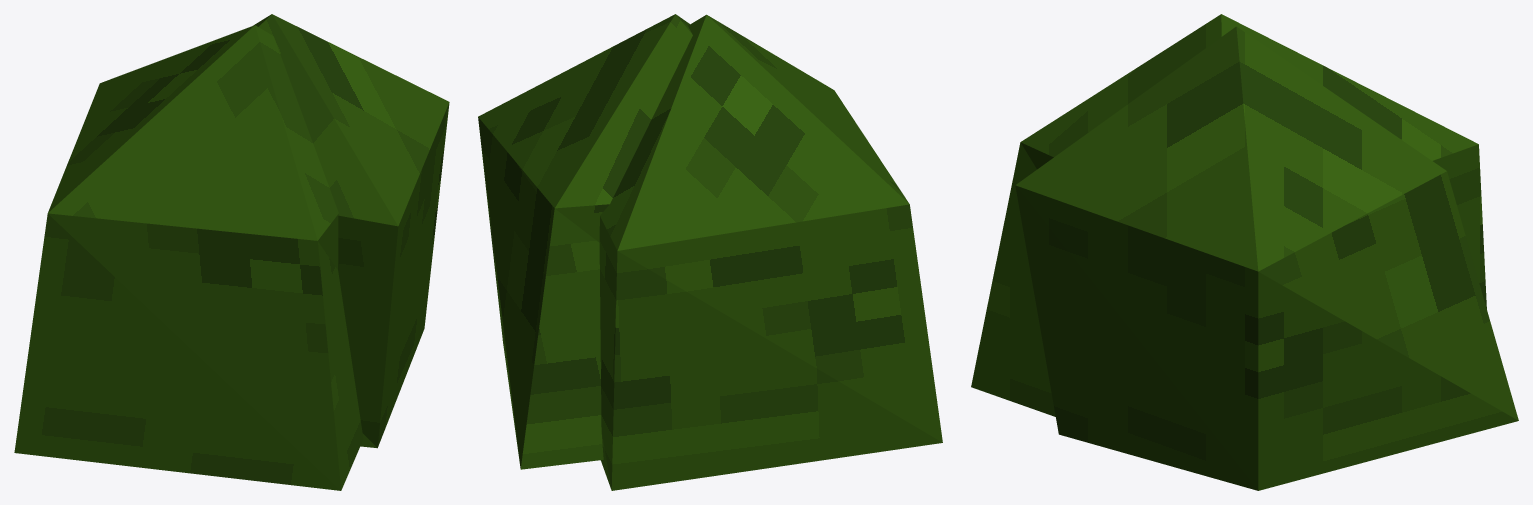
File: arbusto.glb
3 views of the same model, side by side, from view 1: azimuth 30°, elevation 25°; view 2: azimuth 150°, elevation 25°; view 3: azimuth 270°, elevation 25° (orthographic). The views are drawn at different scales.
Visible parts, largest first — view 1: follaje; view 2: follaje; view 3: follaje.
Part boxes in pixels (box(x1,y1,x2,y2)): follaje: box(14, 14, 449, 490); follaje: box(478, 14, 942, 490); follaje: box(971, 14, 1518, 490).
Bounding box in the file's own units: 1 × 0.8 × 1.
Materials: 1 (1 with a texture image).
